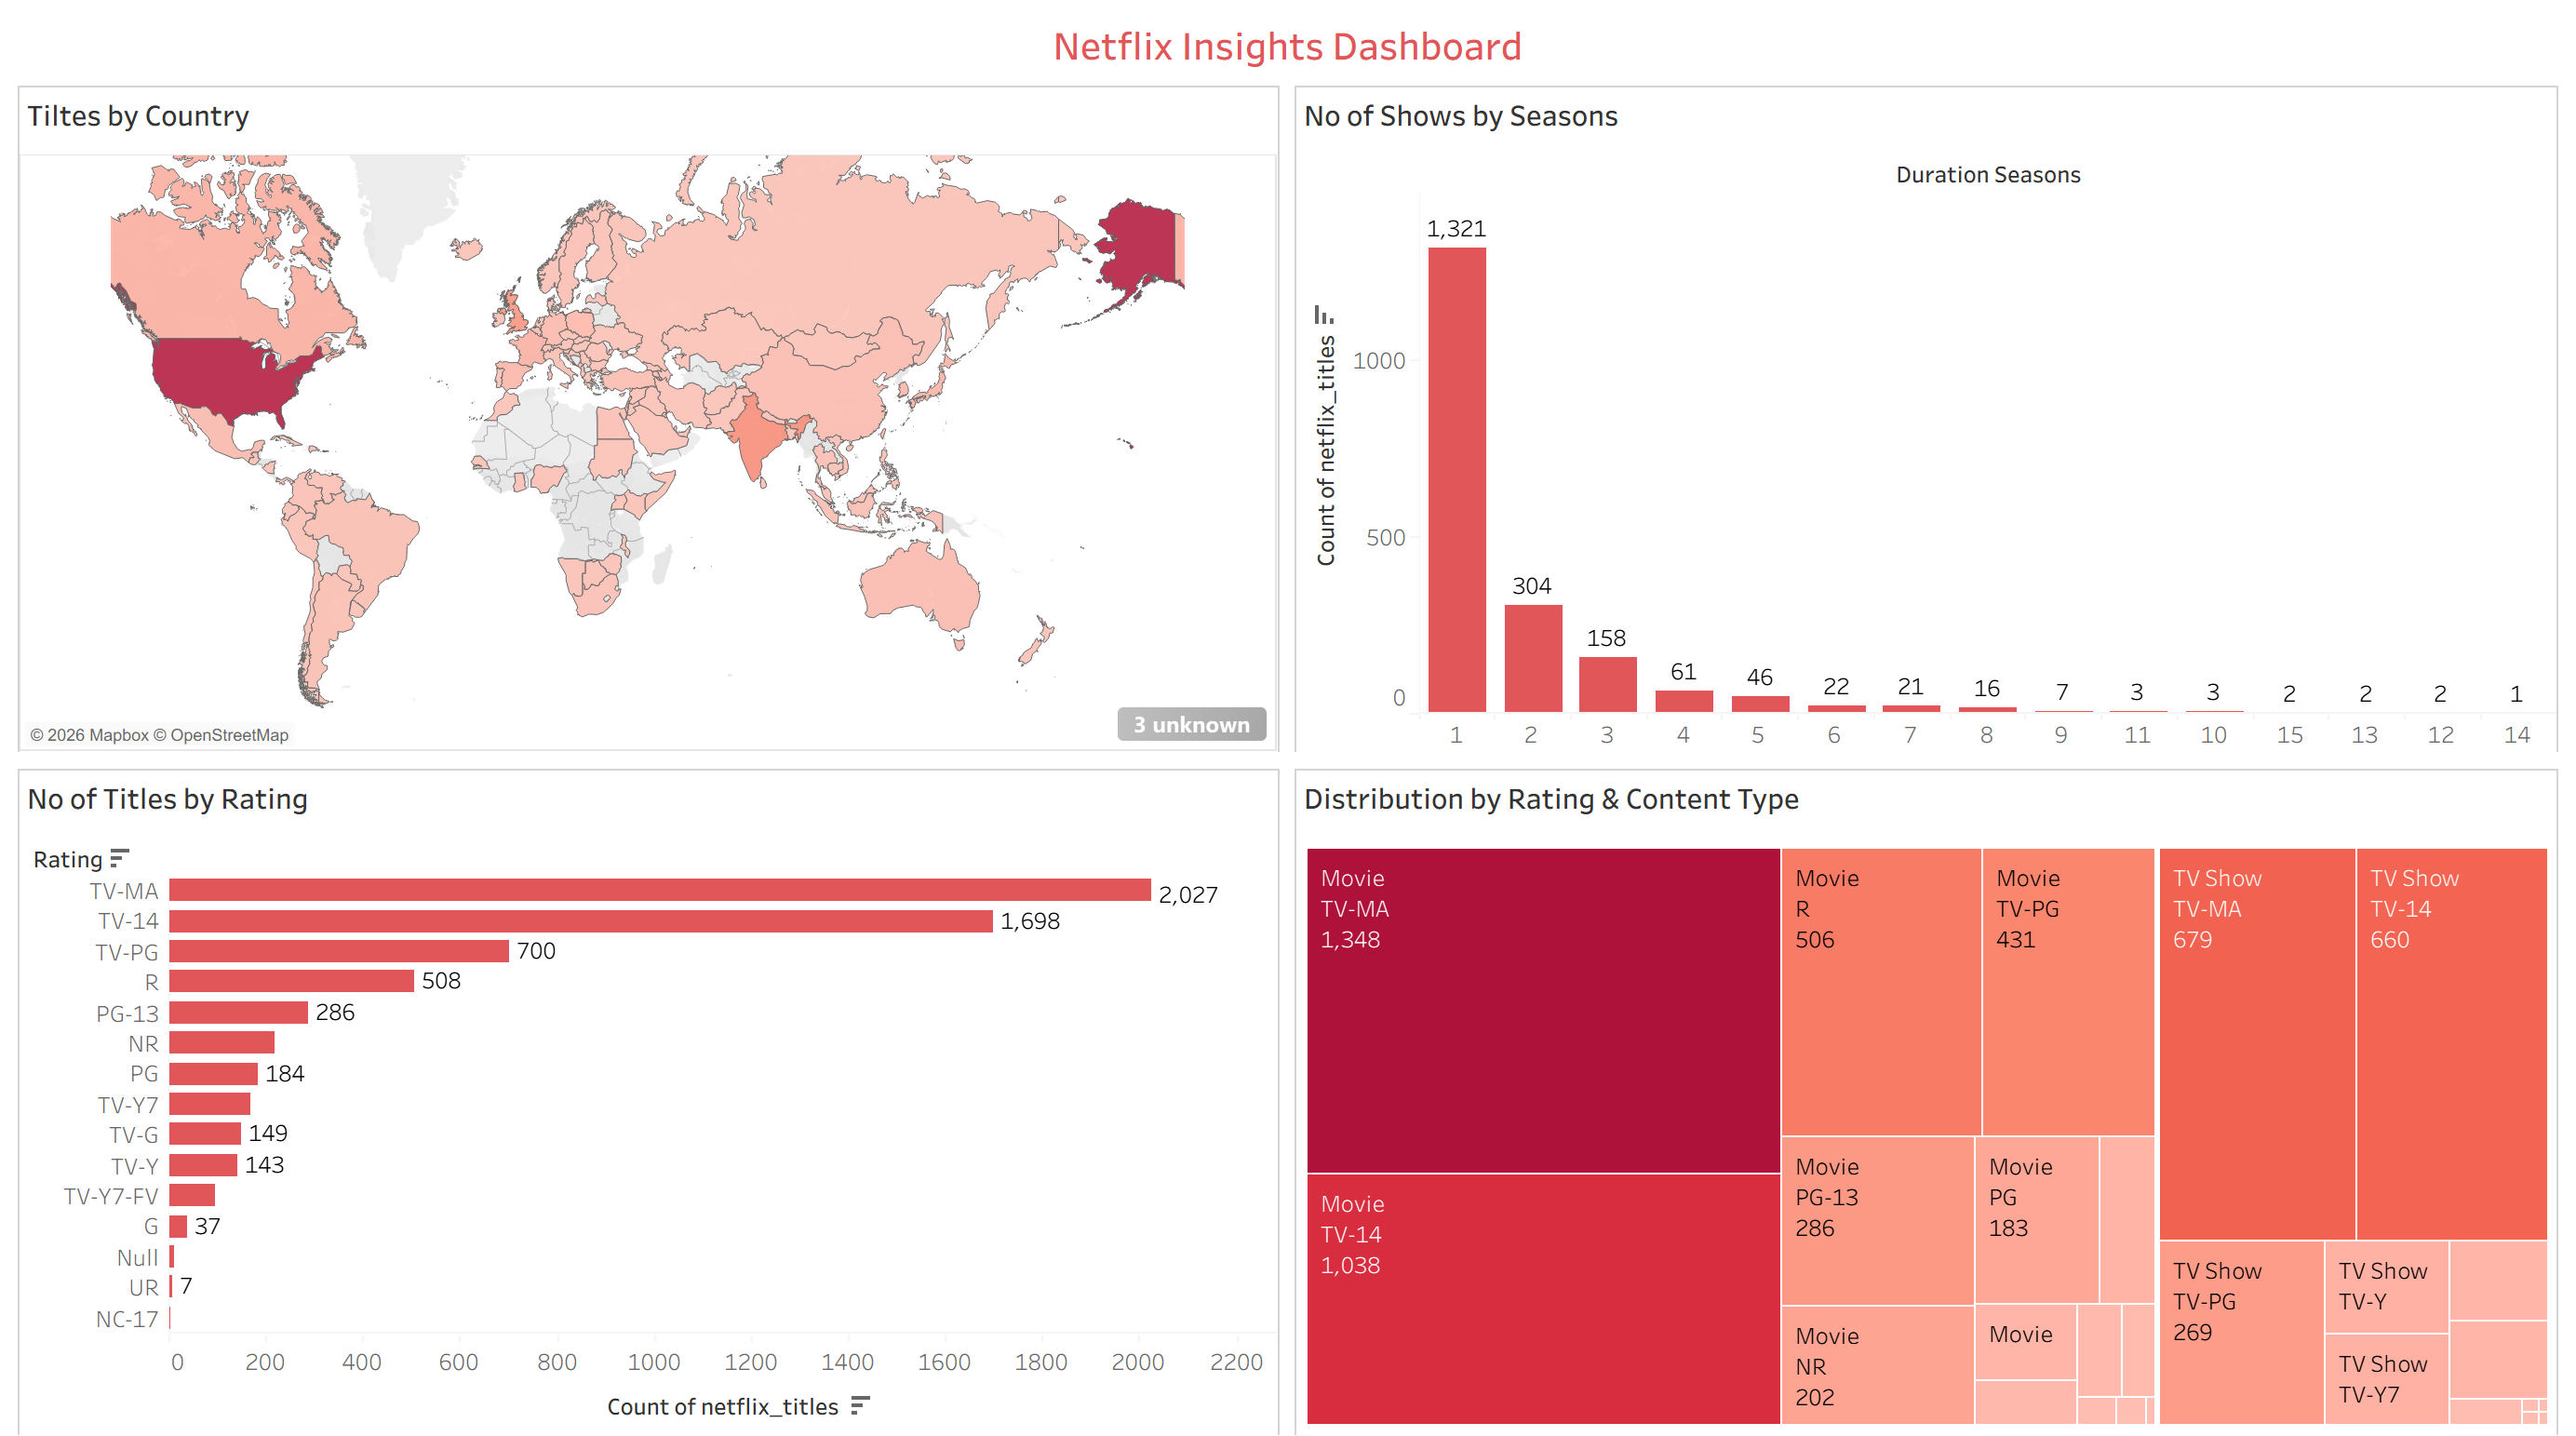

The dashboard page shown, as its layout file describes it:
{"tool":"tableau","page":{"name":"Netflix Insights Dashboard","canvas":[1000,1000],"units":"permille","ordinal":0},"visuals":[{"type":"title","box":[6.2,9.7,987.6,43.5]},{"type":"worksheet","title":"Tiltes by Country","mark":"Automatic","box":[6.2,53.2,493.7,468.6]},{"type":"worksheet","title":"No of Shows by Seasons","mark":"Automatic","rows":["netflix!titles_BB674B37716F4D6FB37A87A40ACA0DAA"],"cols":["duration_seasons"],"box":[499.9,53.2,493.9,468.6]},{"type":"worksheet","title":"No of Titles by Rating","mark":"Automatic","rows":["rating"],"cols":["netflix!titles_BB674B37716F4D6FB37A87A40ACA0DAA"],"box":[6.2,521.8,493.7,468.6]},{"type":"worksheet","title":"Distribution by Rating & Content Type ","mark":"Automatic","box":[499.9,521.8,493.9,468.6]}]}

Visuals, with their boxes on the dashboard's canvas, which has no fixed pixel size, in thousandths of its width and height (x1, y1, x2, y2). These are canvas units, not pixel positions in the 2576x1436 screenshot, which may show the page scaled, cropped or inside an application window:
title: BBox(6, 10, 994, 53)
"Tiltes by Country" worksheet: BBox(6, 53, 500, 522)
"No of Shows by Seasons" worksheet: BBox(500, 53, 994, 522)
"No of Titles by Rating" worksheet: BBox(6, 522, 500, 990)
"Distribution by Rating & Content Type " worksheet: BBox(500, 522, 994, 990)
